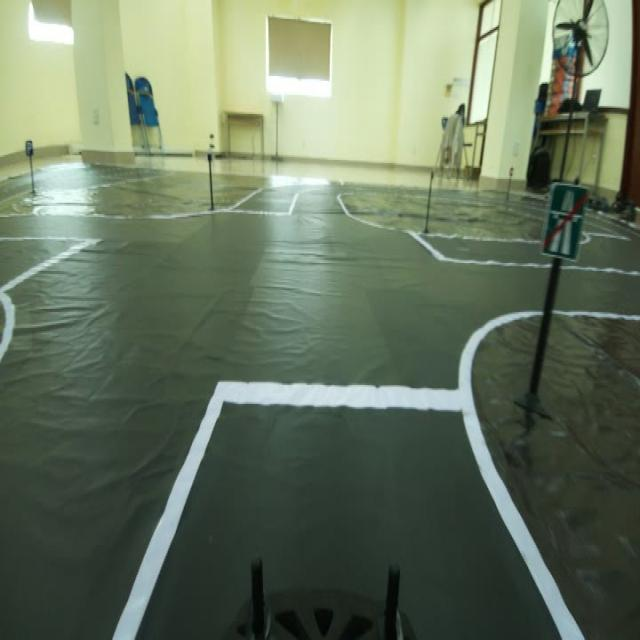highway_exit: (542, 165, 588, 282)
